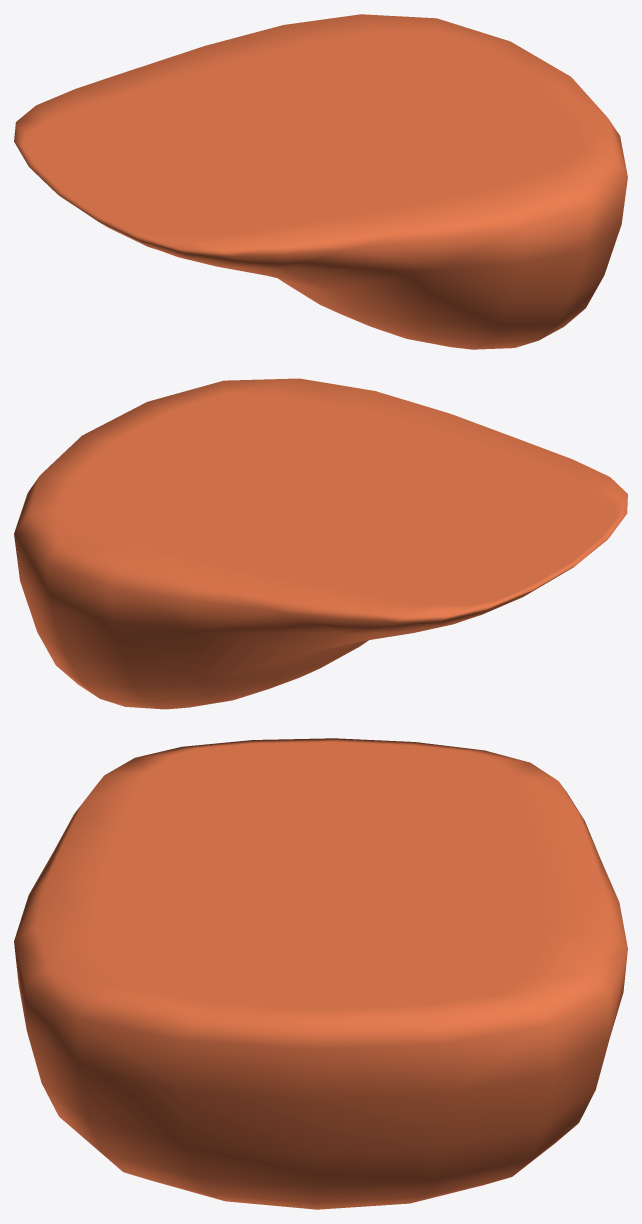
Rendered from LedgeStone.fbx.
The picture shows the model from 3 angles, top to bottom: view 1: azimuth 30°, elevation 25°; view 2: azimuth 150°, elevation 25°; view 3: azimuth 270°, elevation 25°; orthographic projection. The views are drawn at different scales.
Parts seen in each view (by area): view 1: Ledgy.001; view 2: Ledgy.001; view 3: Ledgy.001.
Boxes of the visible parts, bbox=[...] form: Ledgy.001: bbox=[14, 14, 627, 349]; Ledgy.001: bbox=[14, 378, 627, 709]; Ledgy.001: bbox=[14, 738, 627, 1209].
Size of the model in its own units: 5.05 by 2.14 by 5.68.
